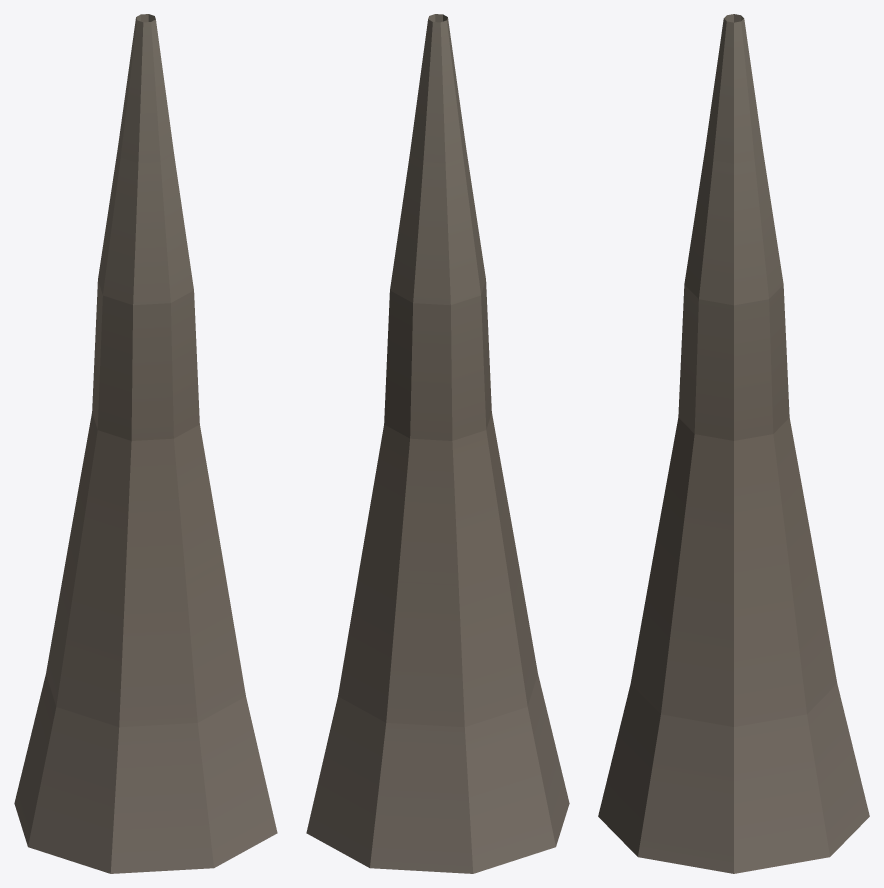
File: stalagmite_recipe_v2.glb
3 renders of one model, left to right at view 1: azimuth 30°, elevation 25°; view 2: azimuth 150°, elevation 25°; view 3: azimuth 270°, elevation 25°, orthographic.
Parts seen in each view (by area): view 1: world; view 2: world; view 3: world.
Boxes of the visible parts, x1,y1,x2,y2 form: world: (14, 14, 277, 873); world: (306, 14, 569, 873); world: (598, 14, 869, 873).
Size of the model in its own units: 0.3086 by 1 by 0.3086.
